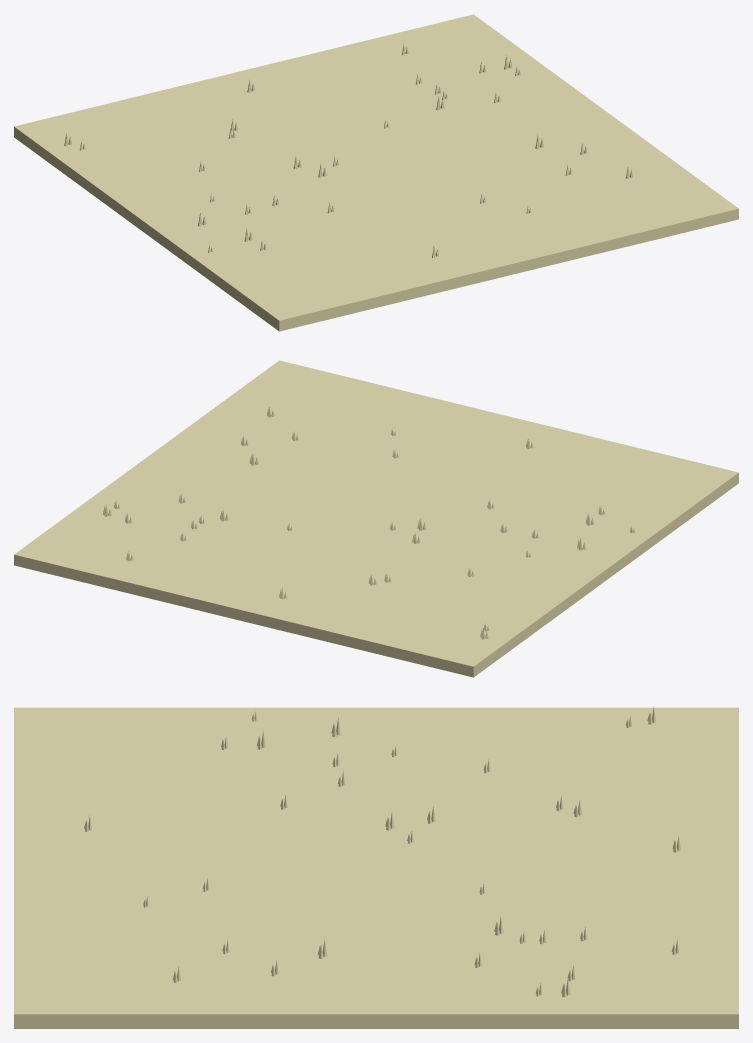
File: hot-air-balloon-festival-launch-field-dry-grass-module-7b1e46c7__38489.glb
The picture shows the model from 3 angles, top to bottom: view 1: azimuth 30°, elevation 25°; view 2: azimuth 150°, elevation 25°; view 3: azimuth 270°, elevation 25°; orthographic projection. The views are drawn at different scales.
Parts seen in each view (by area): view 1: launch-field-dry-grass-module-grass; view 2: launch-field-dry-grass-module-grass; view 3: launch-field-dry-grass-module-grass.
Boxes of the visible parts, x1,y1,x2,y2 form: launch-field-dry-grass-module-grass: (14,14,738,331); launch-field-dry-grass-module-grass: (14,360,738,677); launch-field-dry-grass-module-grass: (14,706,738,1028).
Bounding box in the file's own units: 8 × 0.3936 × 8.
